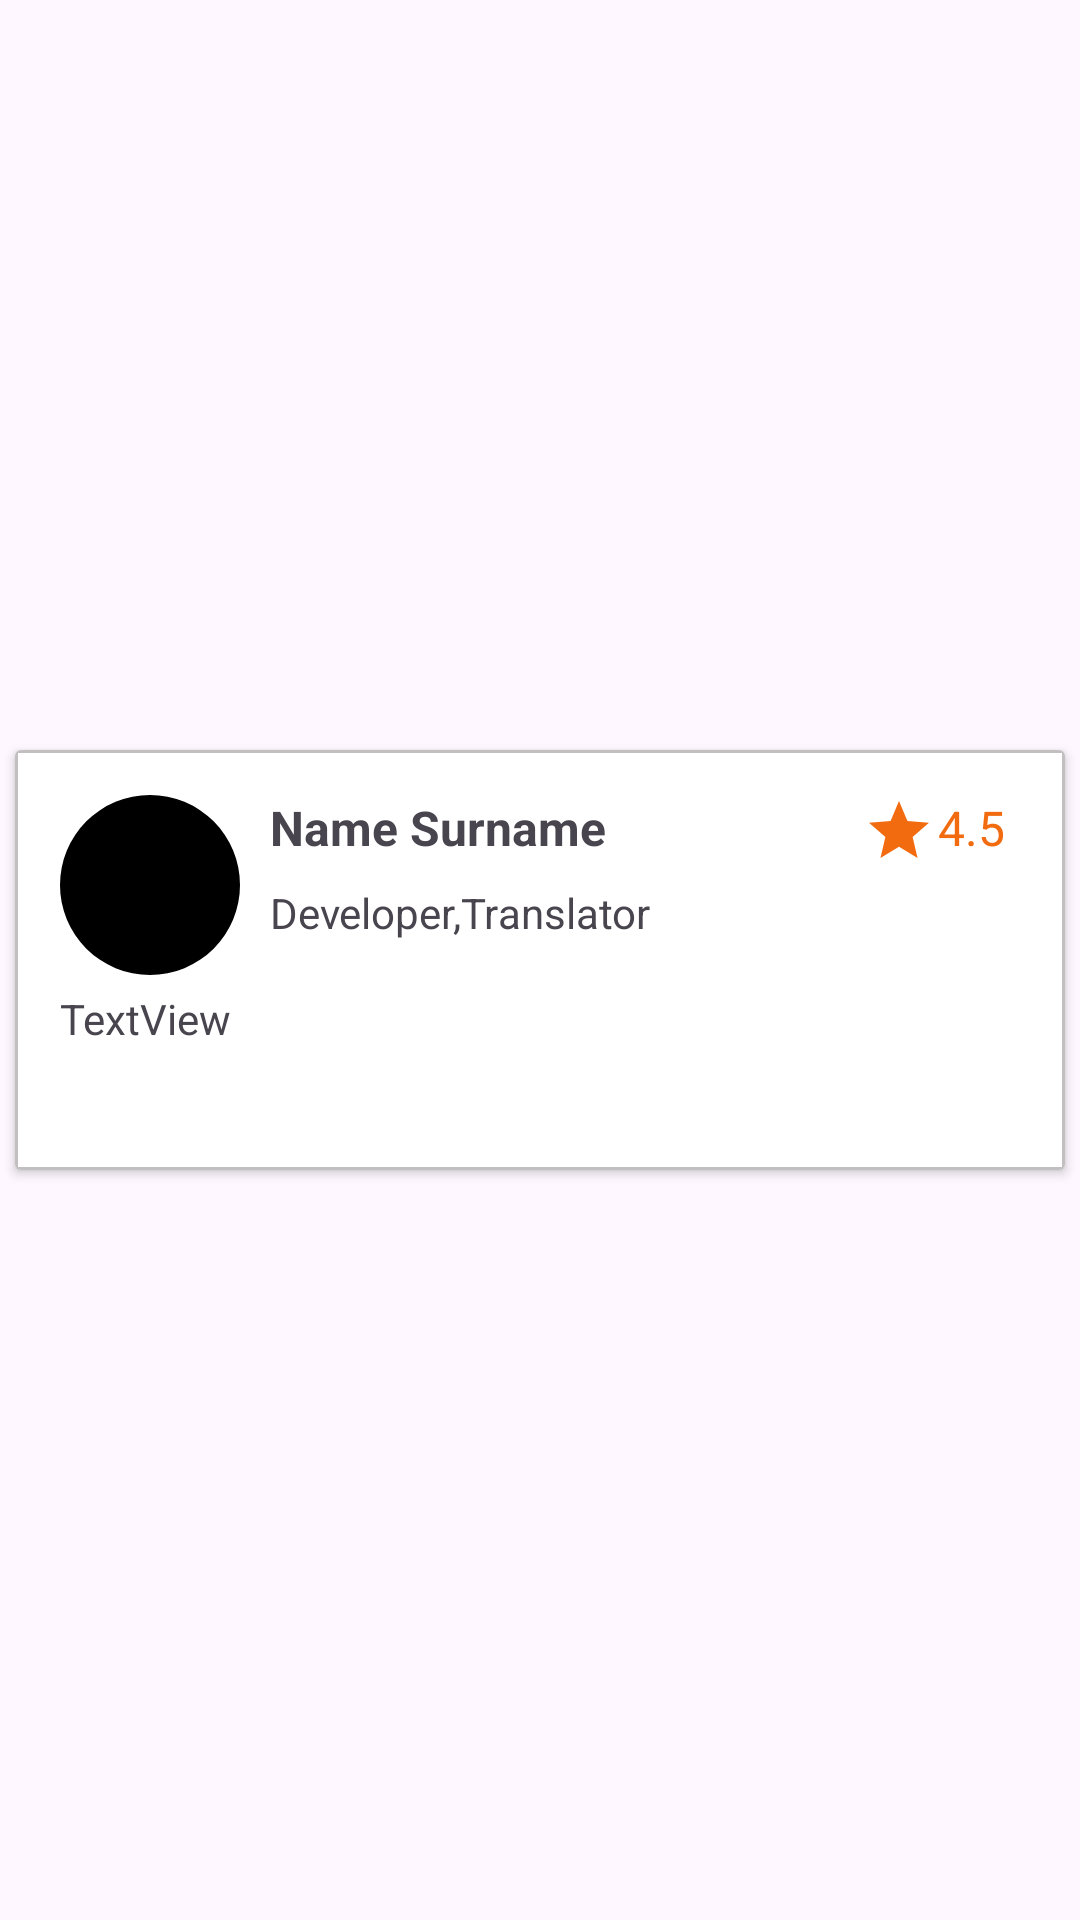

Point at icon controls on the screen. Image size 1080*1920, points as (x,y).
rating: (899,829)
